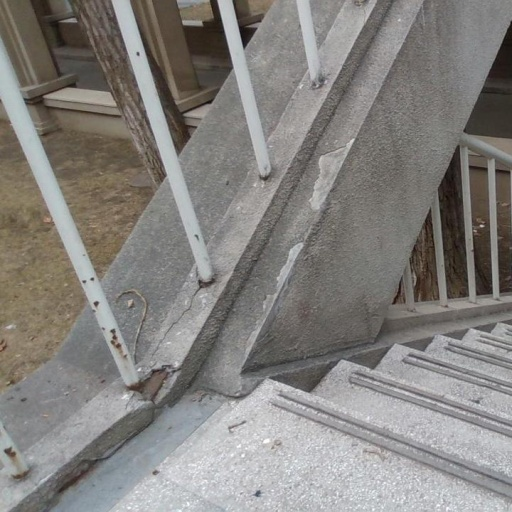Stairs: (120, 324, 512, 512)
